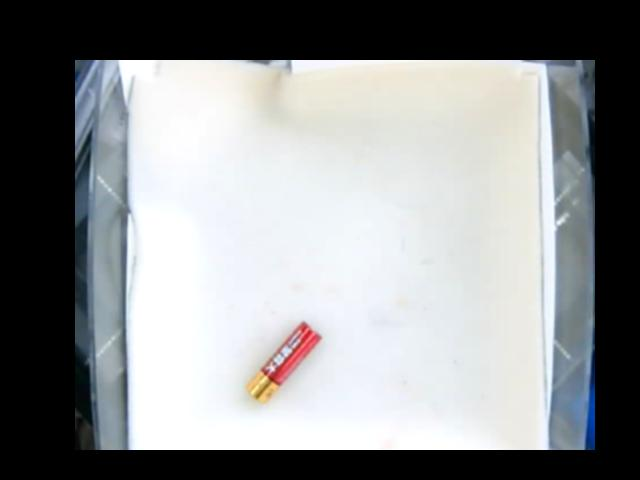Battery: (248, 321, 325, 402)
